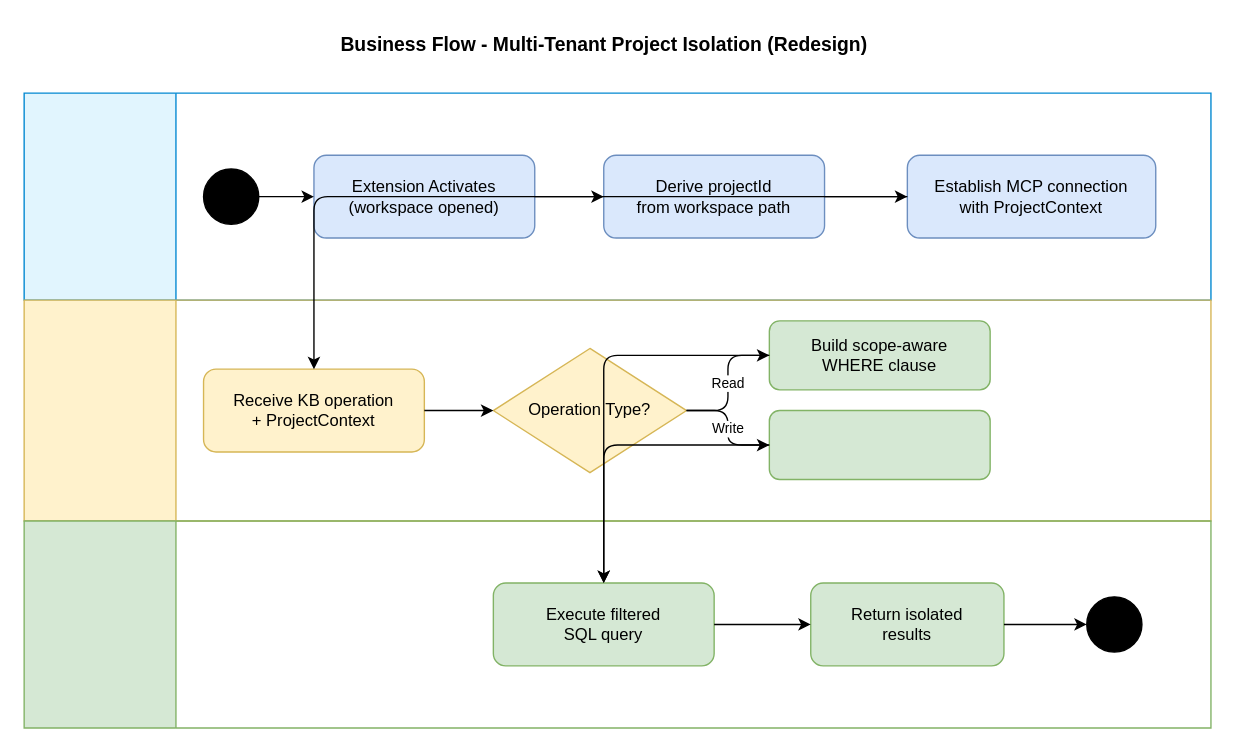
The diagram is 1235 pixels wide and 752 high, and some of its shapes have lost their labels. The shapes that lost their labels are listed below. From the top down, each one's box as (x1, y1, x2, y2) in pixels, then its label:
(23, 92, 1211, 300): IDE Extension
(23, 299, 1211, 521): Isolation Layer (NEW module)
(768, 409, 990, 480): Stamp entry with project_id
(23, 520, 1211, 728): Memory Engine (DB layer)
